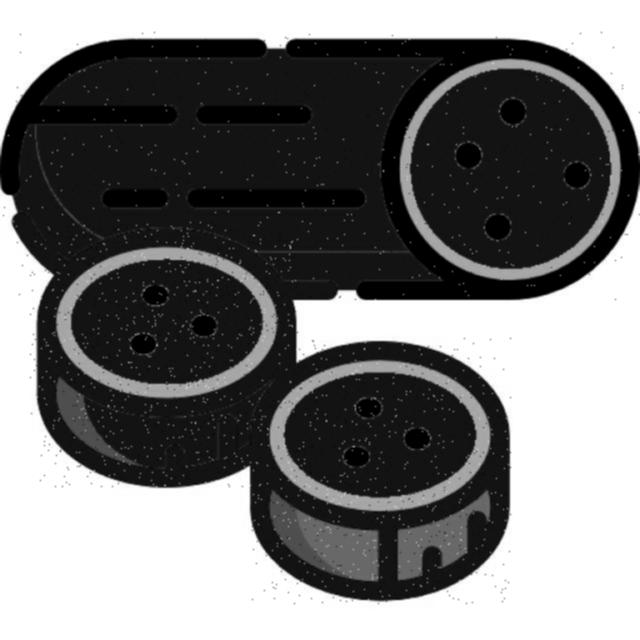cucumber: (1, 33, 640, 303), (31, 226, 300, 488), (252, 339, 512, 606)
